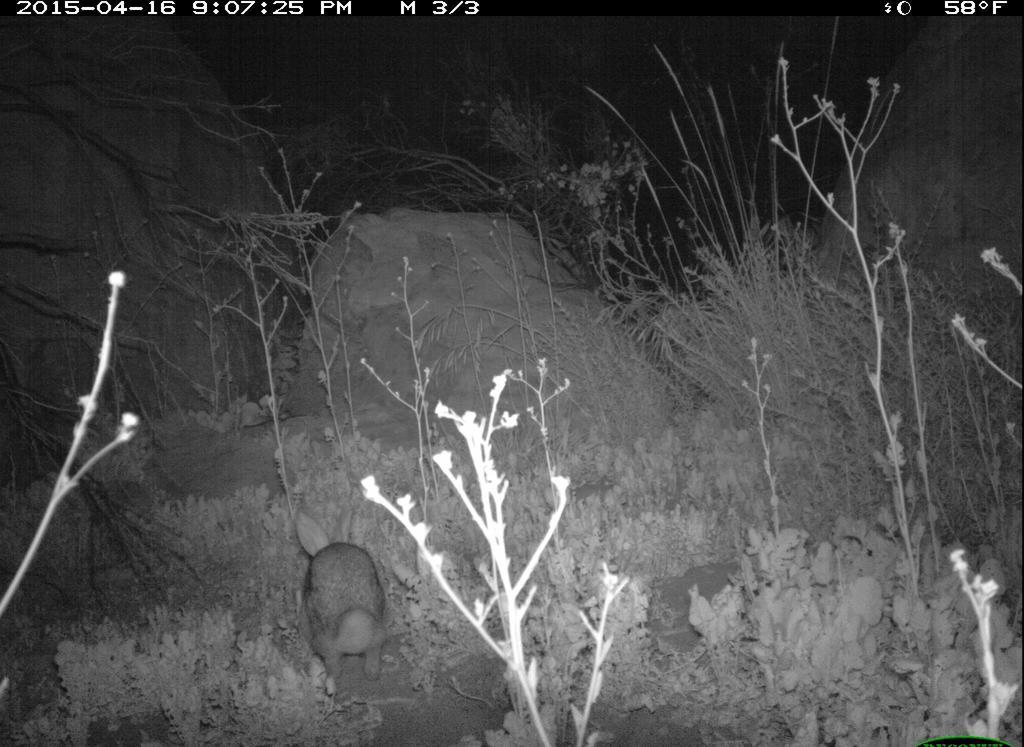rabbit: (285, 500, 397, 694)
